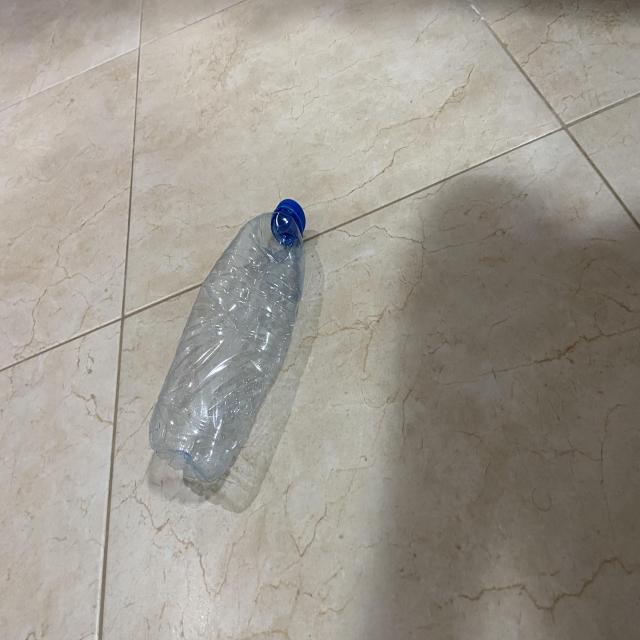plastic: (151, 197, 309, 498)
